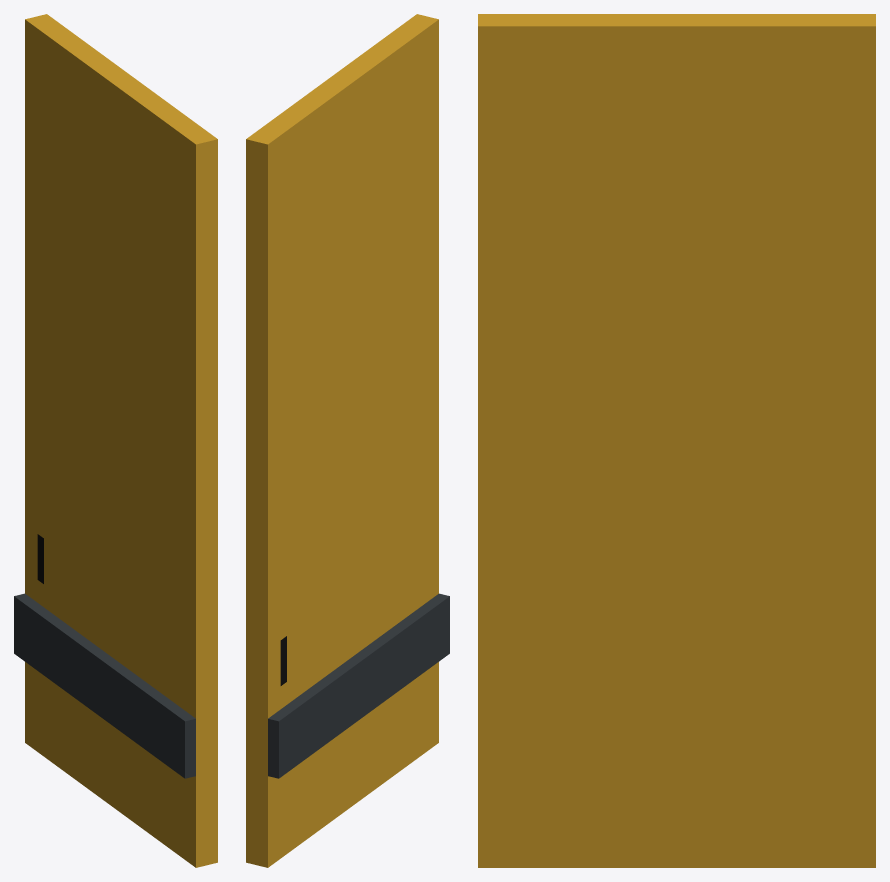
File: food_truck_rear_door.glb
The picture shows the model from 3 angles, left to right: view 1: azimuth 30°, elevation 25°; view 2: azimuth 150°, elevation 25°; view 3: azimuth 270°, elevation 25°; orthographic projection. The views are drawn at different scales.
Parts seen in each view (by area): view 1: body:compound; view 2: body:compound; view 3: body:compound.
Boxes of the visible parts, x1,y1,x2,y2 form: body:compound: (14, 14, 217, 867); body:compound: (246, 14, 449, 867); body:compound: (478, 14, 875, 867).
Bounding box in the file's own units: 0.0938 × 1.97 × 0.8438.
